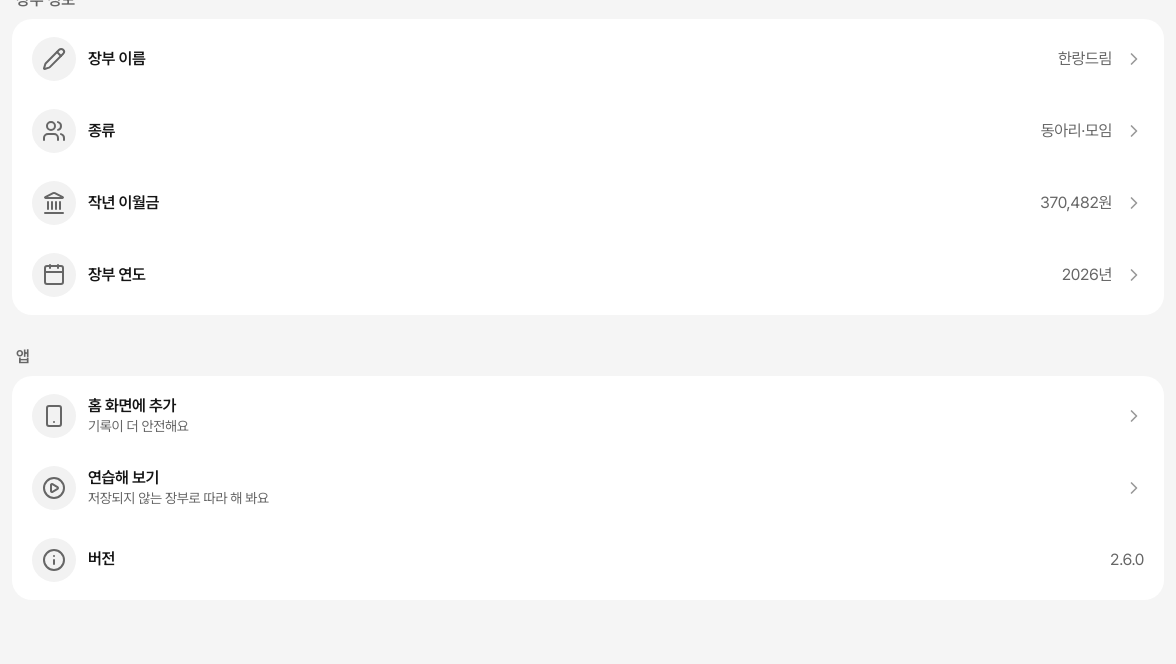
Test: SPEC-001·002 설정 화면 › SPEC-002 홈 화면에 추가 줄 › SPEC-009 A 그림 안내 (설치 제안이 없을 때) › 창이 떠 있는 동안 브라우저 메뉴로 설치를 마치면(appinstalled) 창이 닫히고 줄이 사라진다
(page scrolled)
Click the button "홈 화면에 추가 기록이 더 안전해요".
click(54, 416)  # box [12,380,1164,452]
(page scrolled)
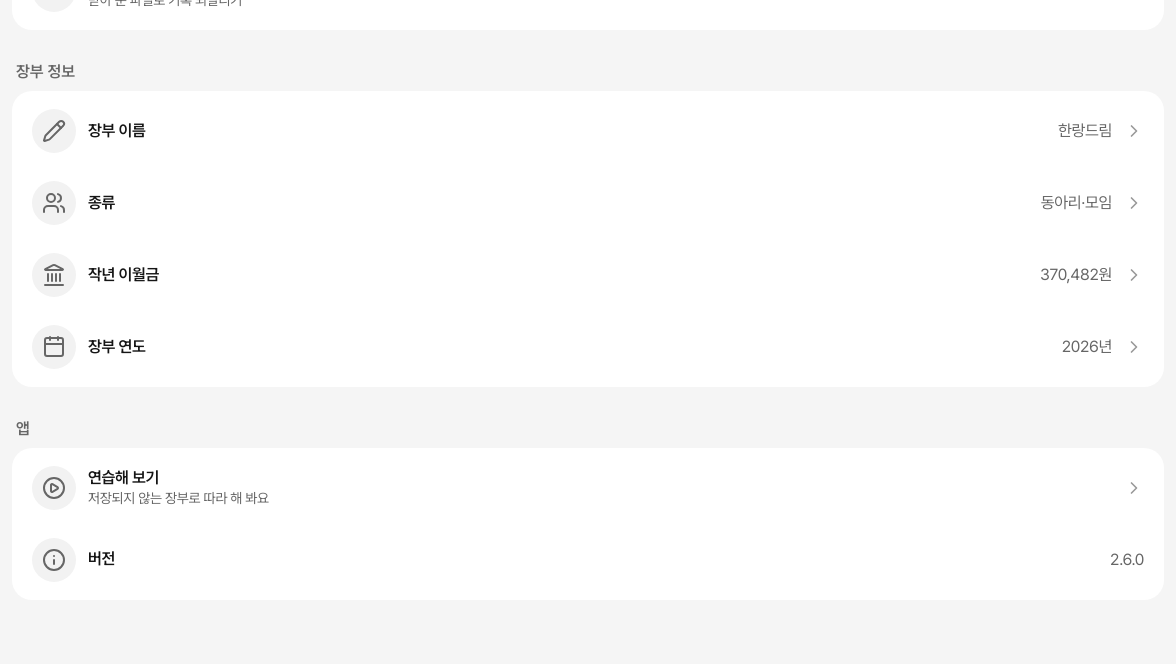
Expected: the heading "설정" is shown, [12,65,54,94]
Now the button "홈 화면에 추가" is gone
